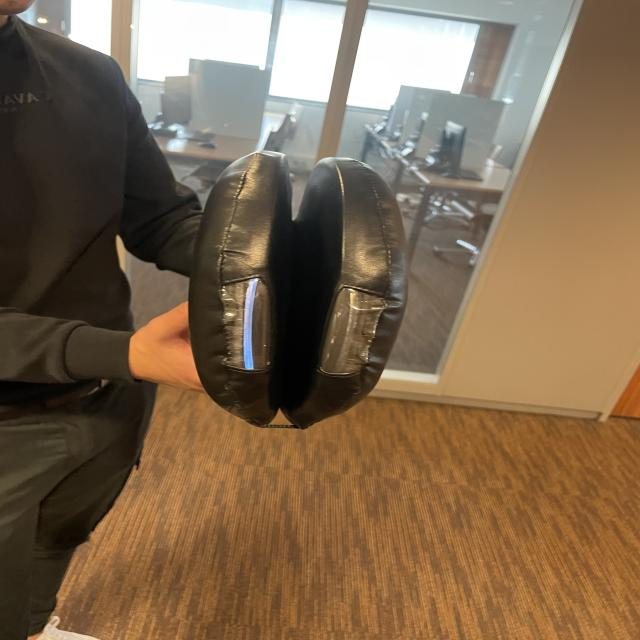paddle: (192, 156, 396, 428)
trigger: (236, 270, 263, 379)
